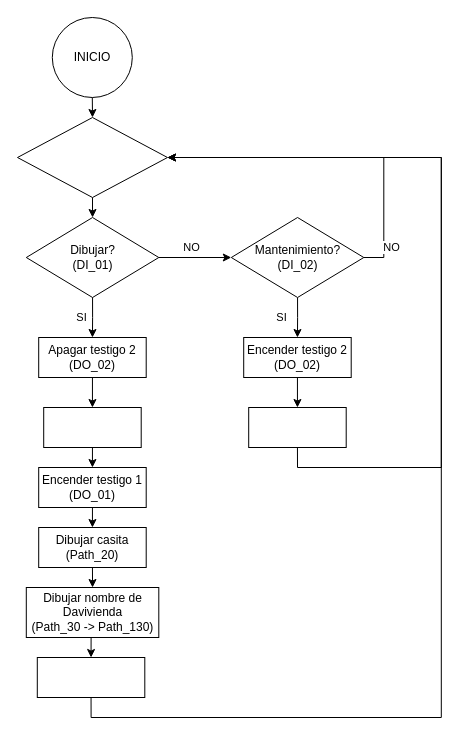
Some shapes in this 467 by 743 pixel diagram are drawn without their labels. The shapes that lost their labels are listed below. From the top down, each one's box as (x1, y1, x2, y2) in pixels, then its label:
(16, 116, 168, 198): WHILE(TRUE)
(43, 406, 141, 448): Ir a HOME
(248, 406, 346, 448): Ir a posición de mantenimiento
(36, 656, 145, 698): Apagar testigo 1 (DO_01)
